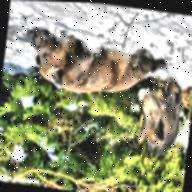boar: (24, 21, 170, 110), (130, 80, 192, 162)
